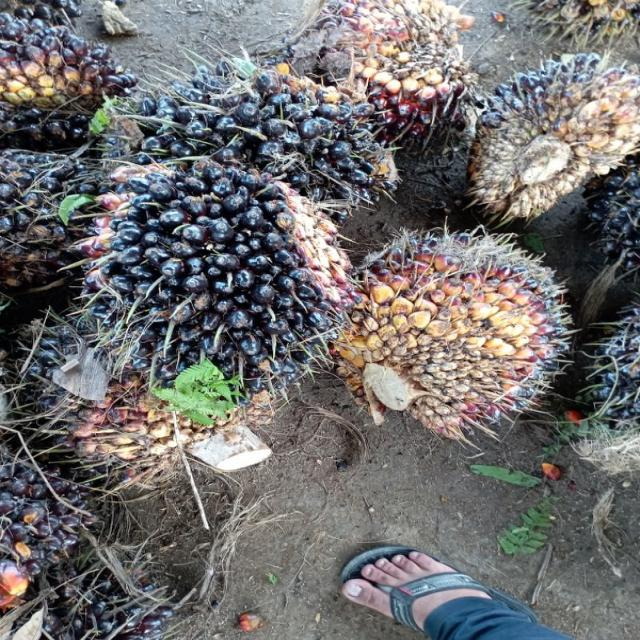fraksi 00: (73, 159, 346, 380), (324, 235, 574, 437), (140, 52, 421, 216), (463, 54, 640, 210), (0, 16, 140, 135)
